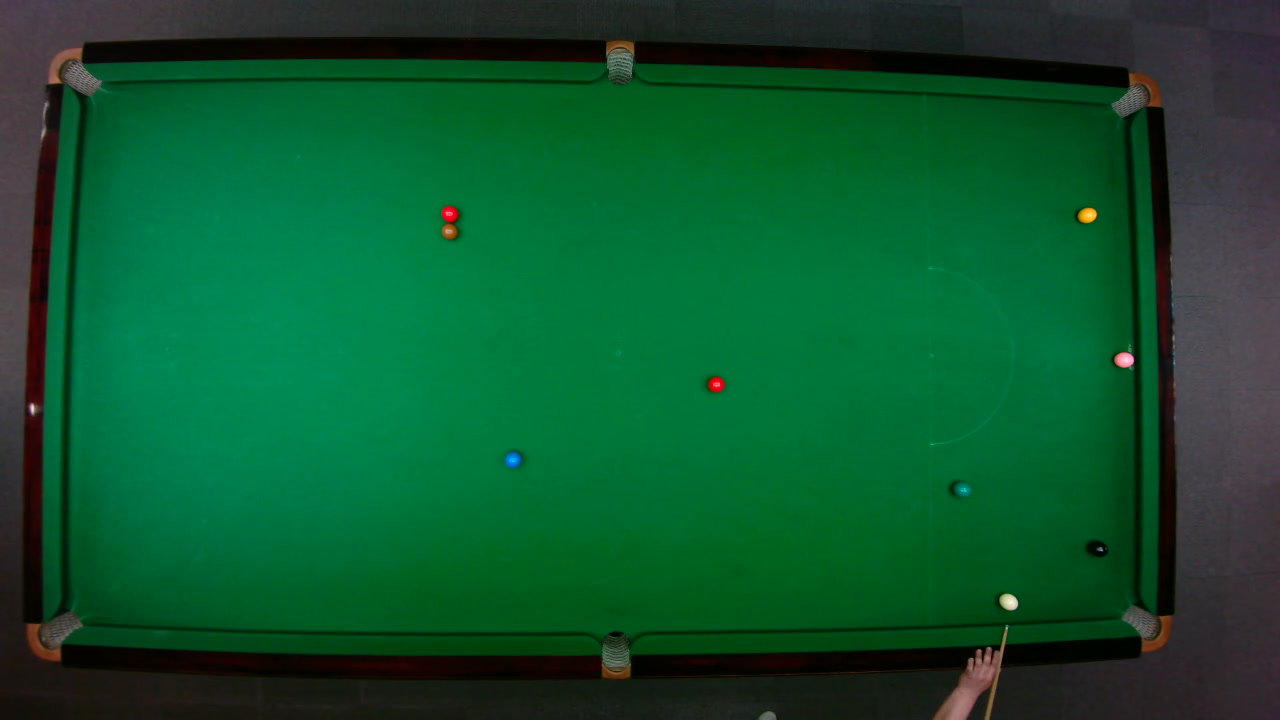bag: (25, 609, 83, 662), (46, 46, 102, 96), (1119, 603, 1171, 652), (1108, 71, 1161, 118), (600, 629, 629, 680), (605, 38, 633, 85)
black: (1087, 539, 1108, 557)
blue: (503, 449, 523, 468)
brown: (440, 223, 458, 240)
cue: (984, 625, 1008, 717)
green: (951, 480, 972, 497)
pink: (1112, 350, 1134, 368)
red: (706, 374, 725, 393), (439, 204, 459, 222)
white: (996, 591, 1019, 610)
yellow: (1076, 205, 1098, 223)
zone: (927, 265, 1013, 445)
